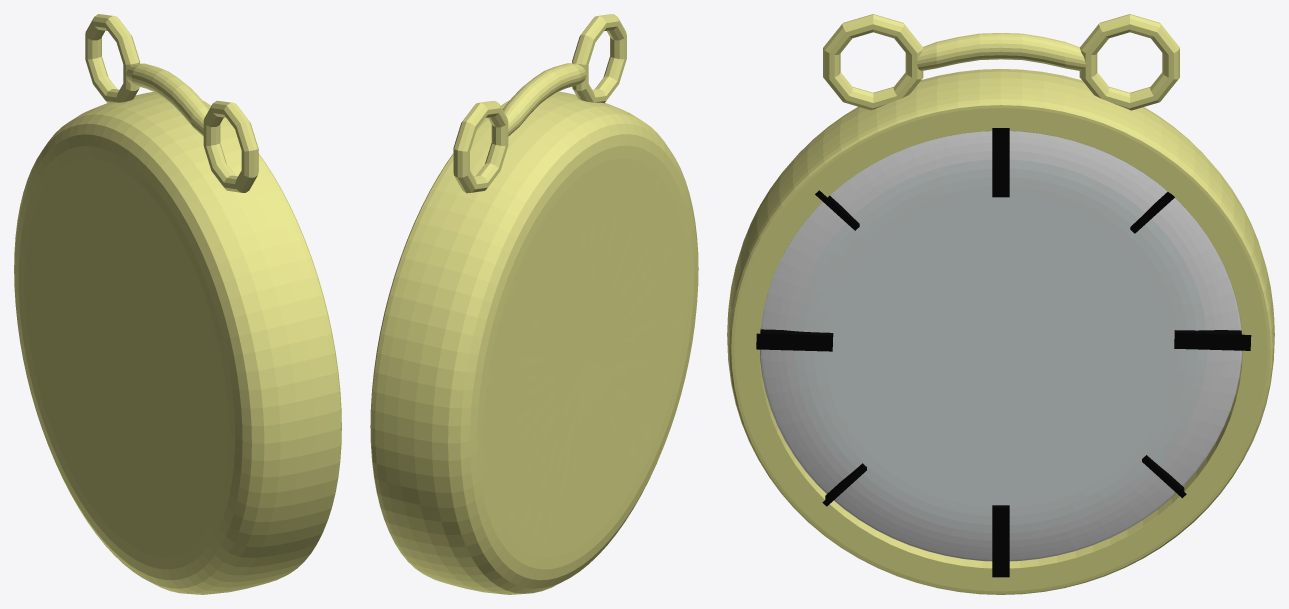
File: Clock.fbx
3 renders of one model, left to right at view 1: azimuth 30°, elevation 25°; view 2: azimuth 150°, elevation 25°; view 3: azimuth 270°, elevation 25°, orthographic. The views are drawn at different scales.
Visible parts, largest first — view 1: Reloj; view 2: Reloj; view 3: Reloj.
Part boxes in pixels (x1,y1,x2,y2): Reloj: (14, 14, 341, 594); Reloj: (370, 14, 698, 594); Reloj: (727, 14, 1274, 594).
Bounding box in the file's own units: 40.87 × 221 × 196.
